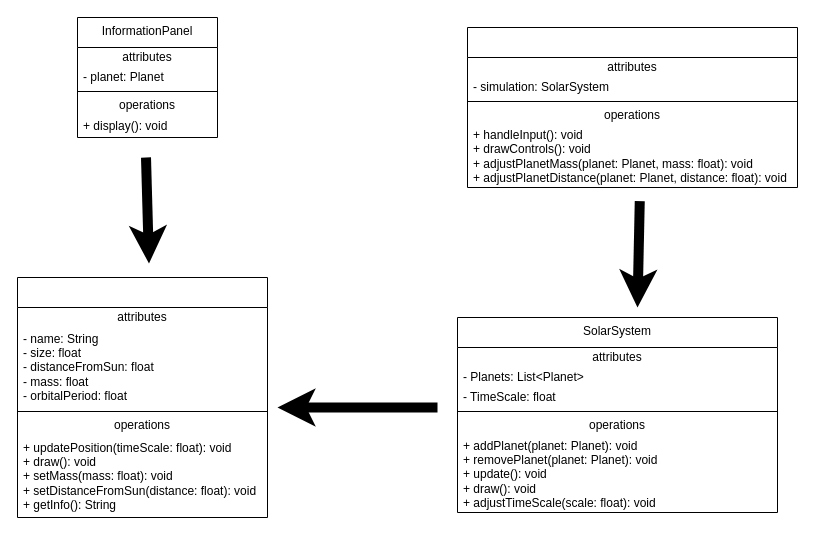
Image size: 815x535. Some labels were removed from this diagram. Each missing label, with the box of its shape:
Planet: (16, 276, 268, 518)
UserInterface: (466, 26, 798, 188)
